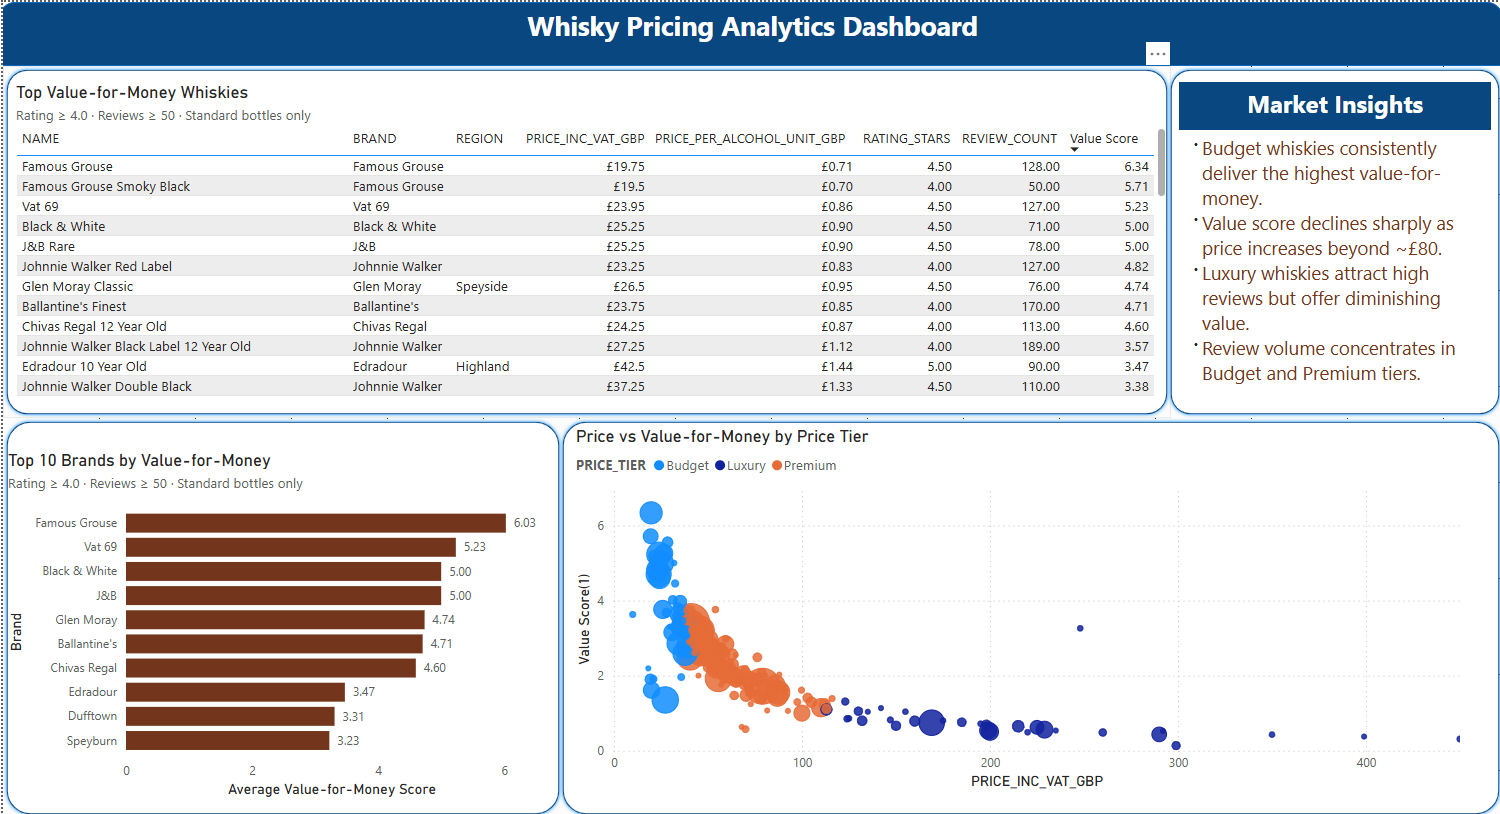

The page's visual inventory and layout, read from the dashboard file:
{"tool":"powerbi","page":{"name":"Value, Discounts & Consumer Behavior","canvas":[1500,820],"ordinal":1},"visuals":[{"type":"shape","box":[-4,0,1504,64],"z":0},{"type":"textbox","box":[512,0,480,48],"z":1000},{"type":"shape","box":[556,416,944,400],"z":2000},{"type":"shape","box":[0,64,1168,352],"z":3000},{"type":"shape","box":[0,416,560,400],"z":4000},{"type":"tableEx","title":"Top Value-for-Money Whiskies","fields":{"Values":["VW_PRODUCT_LATEST.NAME","VW_PRODUCT_LATEST.BRAND","VW_PRODUCT_LATEST.REGION","VW_PRODUCT_LATEST.PRICE_INC_VAT_GBP","VW_PRODUCT_LATEST.PRICE_PER_ALCOHOL_UNIT_GBP","VW_PRODUCT_LATEST.RATING_STARS","VW_PRODUCT_LATEST.REVIEW_COUNT","_Measures.Value Score"]},"box":[8,80,1160,320],"z":5000},{"type":"clusteredBarChart","title":"Top 10 Brands by Value-for-Money","fields":{"Category":["VW_PRODUCT_LATEST.BRAND"],"Y":["_Measures.Avg Value Score"]},"box":[0,448,544,352],"z":6000},{"type":"scatterChart","title":"Price vs Value-for-Money by Price Tier","fields":{"X":["VW_PRODUCT_LATEST.PRICE_INC_VAT_GBP"],"Y":["VW_PRODUCT_LATEST.Value Score(1)"],"Size":["Sum(VW_PRODUCT_LATEST.REVIEW_COUNT)"],"Series":["VW_PRODUCT_LATEST.PRICE_TIER"]},"box":[568,424,904,368],"z":7000},{"type":"shape","box":[1164,64,336,352],"z":8000},{"type":"textbox","box":[1176,80,312,48],"z":8001},{"type":"textbox","box":[1176,128,312,272],"z":8002}]}

Visuals, with their boxes in screenshot pixels (x1, y1, x2, y2), scaled from the page's 1500x820 canvas onto the 1500x814 screenshot:
shape: <bbox>0, 0, 1499, 64</bbox>
textbox: <bbox>512, 0, 992, 48</bbox>
shape: <bbox>556, 413, 1499, 810</bbox>
shape: <bbox>0, 64, 1168, 413</bbox>
shape: <bbox>0, 413, 560, 810</bbox>
"Top Value-for-Money Whiskies" tableEx: <bbox>8, 79, 1168, 397</bbox>
"Top 10 Brands by Value-for-Money" clusteredBarChart: <bbox>0, 445, 544, 794</bbox>
"Price vs Value-for-Money by Price Tier" scatterChart: <bbox>568, 421, 1472, 786</bbox>
shape: <bbox>1164, 64, 1499, 413</bbox>
textbox: <bbox>1176, 79, 1488, 127</bbox>
textbox: <bbox>1176, 127, 1488, 397</bbox>
